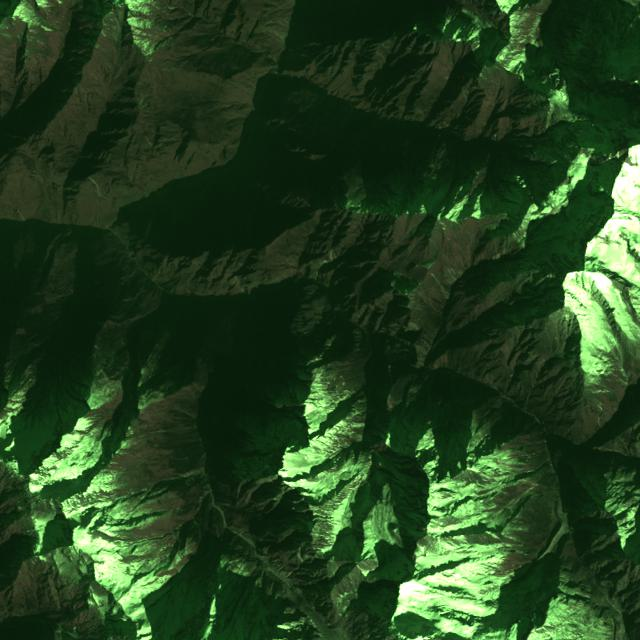landslides: (184, 536, 201, 564), (227, 549, 250, 564), (6, 185, 15, 220), (5, 622, 18, 640), (415, 106, 426, 121), (350, 421, 370, 429), (229, 308, 240, 319), (34, 169, 43, 182)
